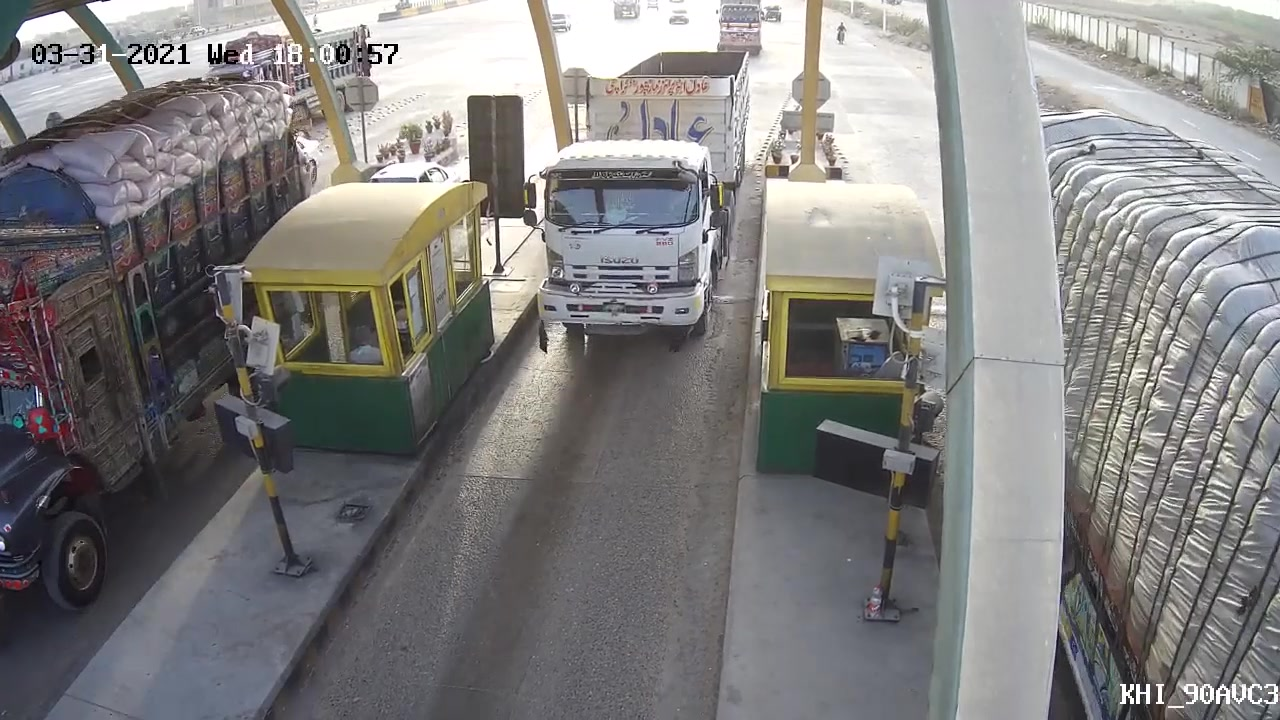F6: (524, 47, 756, 350)
